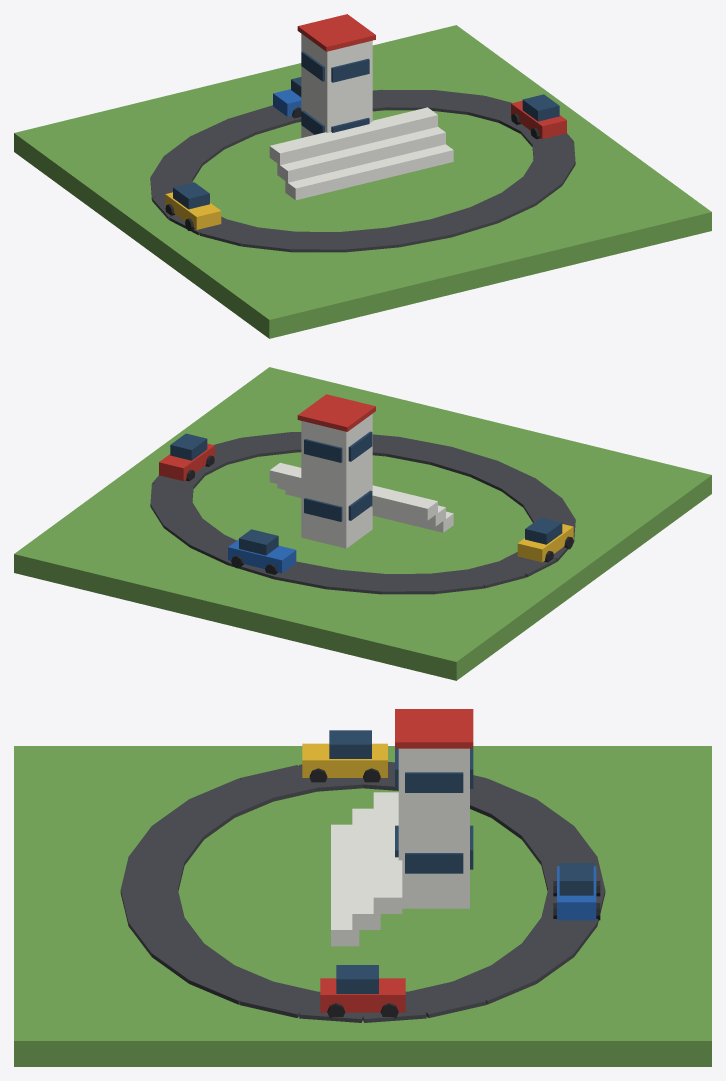
File: auto_special_3.glb
The picture shows the model from 3 angles, top to bottom: view 1: azimuth 30°, elevation 25°; view 2: azimuth 150°, elevation 25°; view 3: azimuth 270°, elevation 25°; orthographic projection. The views are drawn at different scales.
Visible parts, largest first — view 1: auto_special_3; view 2: auto_special_3; view 3: auto_special_3.
Part boxes in pixels (x1,y1,x2,y2): auto_special_3: (14,14,711,338); auto_special_3: (14,367,711,680); auto_special_3: (14,709,711,1066).
Size of the model in its own units: 1.96 by 0.6 by 1.96.
